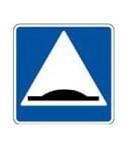road_sign: (13, 23, 116, 125)
